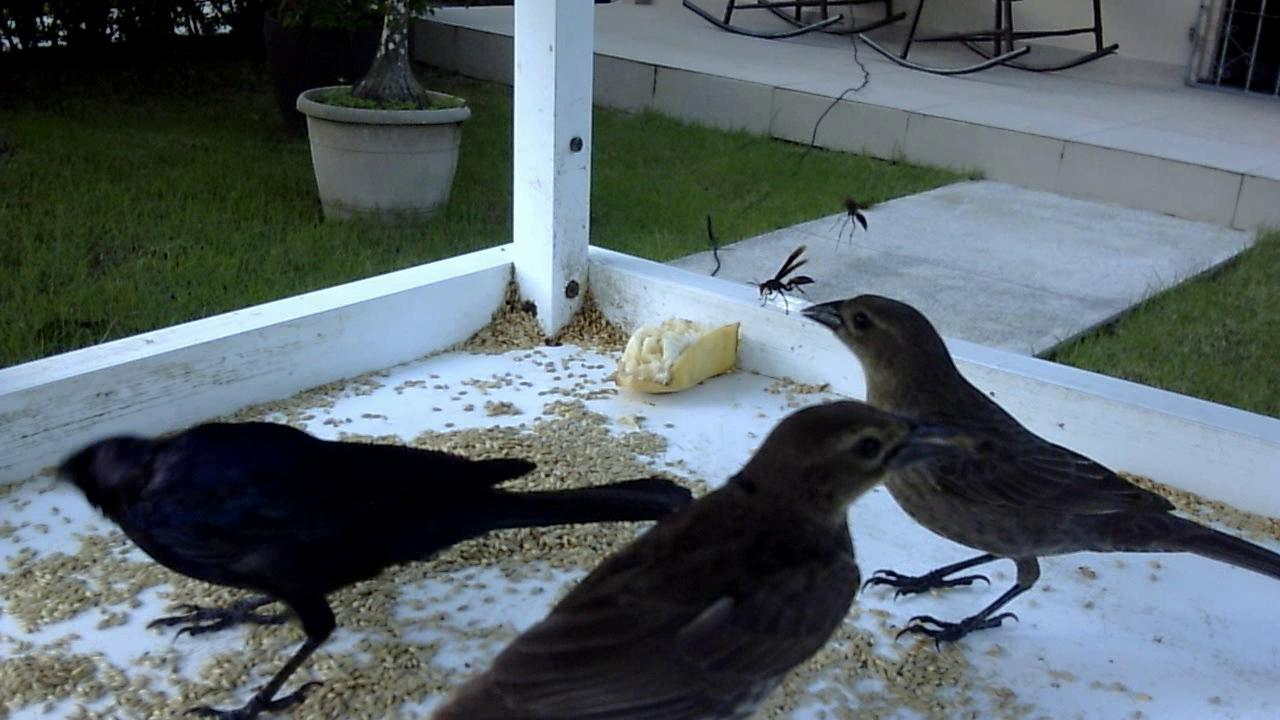chupim: (58, 376, 706, 707), (356, 379, 971, 720), (777, 270, 1275, 672)
